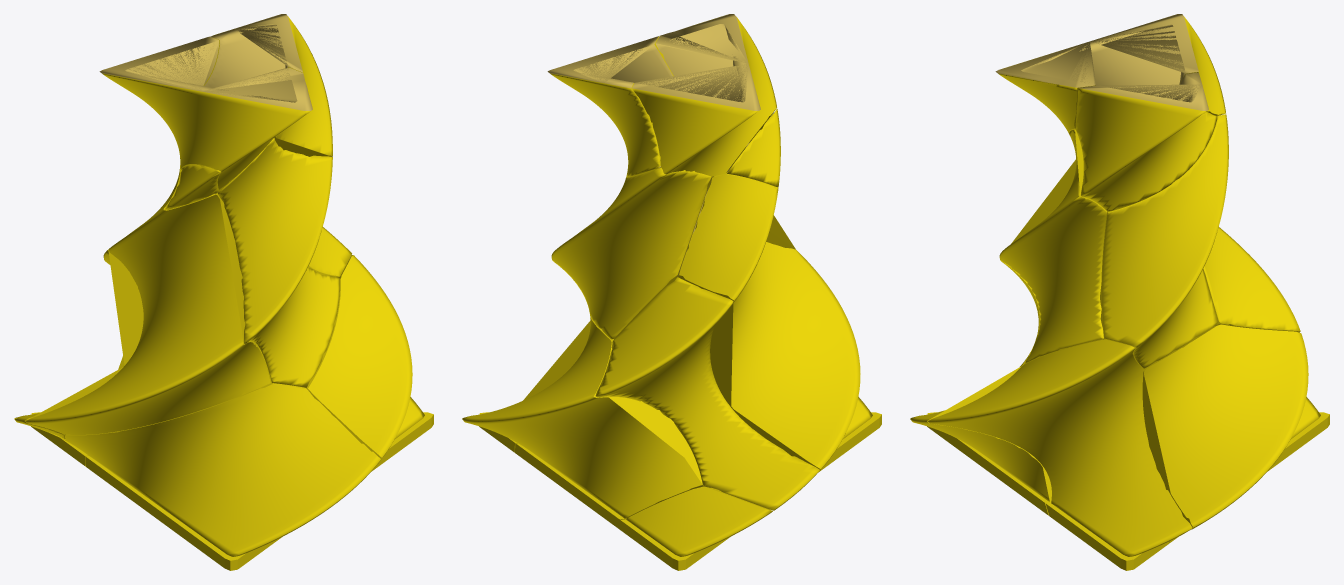
The model's file is VASEFINALENOR.fbx.
The picture shows the model from 3 angles, left to right: view 1: azimuth 30°, elevation 25°; view 2: azimuth 150°, elevation 25°; view 3: azimuth 270°, elevation 25°; orthographic projection.
Visible parts, largest first — view 1: Object_1.006_cell.009, Object_1.006_cell.010, Object_1.006_cell.011, Object_1.006_cell, Object_1.006_cell.005, Object_1.006_cell.002, Object_1.006_cell.015, Object_1.006_cell.003, Object_1.006_cell.001, Object_1.006_cell.006, Object_1.006_cell.013, Object_1.006_cell.014; view 2: Object_1.006_cell.010, Object_1.006_cell.003, Object_1.006_cell.004, Object_1.006_cell, Object_1.006_cell.006, Object_1.006_cell.002, Object_1.006_cell.008, Object_1.006_cell.001, Object_1.006_cell.012, Object_1.006_cell.014, Object_1.006_cell.015; view 3: Object_1.006_cell.005, Object_1.006_cell.004, Object_1.006_cell.006, Object_1.006_cell.002, Object_1.006_cell.011, Object_1.006_cell, Object_1.006_cell.003, Object_1.006_cell.009, Object_1.006_cell.013, Object_1.006_cell.015, Object_1.006_cell.014.
Part boxes in pixels (left/top/right/bottom): Object_1.006_cell.009: left=65, top=382, right=380, bottom=556; Object_1.006_cell.010: left=26, top=165, right=271, bottom=434; Object_1.006_cell.011: left=217, top=137, right=339, bottom=387; Object_1.006_cell: left=99, top=36, right=312, bottom=189; Object_1.006_cell.005: left=305, top=255, right=424, bottom=458; Object_1.006_cell.002: left=203, top=14, right=332, bottom=156; Object_1.006_cell.015: left=85, top=455, right=281, bottom=570; Object_1.006_cell.003: left=14, top=249, right=140, bottom=439; Object_1.006_cell.001: left=164, top=164, right=220, bottom=210; Object_1.006_cell.006: left=180, top=158, right=351, bottom=276; Object_1.006_cell.013: left=371, top=412, right=433, bottom=471; Object_1.006_cell.014: left=31, top=412, right=88, bottom=466; Object_1.006_cell.010: left=678, top=166, right=860, bottom=470; Object_1.006_cell.003: left=595, top=277, right=819, bottom=510; Object_1.006_cell.004: left=462, top=317, right=709, bottom=518; Object_1.006_cell: left=631, top=14, right=776, bottom=176; Object_1.006_cell.006: left=551, top=167, right=711, bottom=339; Object_1.006_cell.002: left=547, top=36, right=673, bottom=176; Object_1.006_cell.008: left=625, top=486, right=772, bottom=556; Object_1.006_cell.001: left=727, top=109, right=780, bottom=187; Object_1.006_cell.012: left=515, top=443, right=626, bottom=526; Object_1.006_cell.014: left=615, top=519, right=729, bottom=570; Object_1.006_cell.015: left=818, top=412, right=881, bottom=472; Object_1.006_cell.005: left=928, top=339, right=1192, bottom=556; Object_1.006_cell.004: left=1142, top=324, right=1308, bottom=529; Object_1.006_cell.006: left=1101, top=114, right=1228, bottom=368; Object_1.006_cell.002: left=1075, top=72, right=1217, bottom=211; Object_1.006_cell.011: left=999, top=129, right=1106, bottom=365; Object_1.006_cell: left=995, top=14, right=1225, bottom=134; Object_1.006_cell.003: left=1203, top=227, right=1300, bottom=332; Object_1.006_cell.009: left=910, top=352, right=1051, bottom=502; Object_1.006_cell.013: left=1045, top=503, right=1169, bottom=570; Object_1.006_cell.015: left=927, top=412, right=1050, bottom=515; Object_1.006_cell.014: left=1270, top=412, right=1329, bottom=469.
Size of the model in its own units: 104 by 107 by 100.
